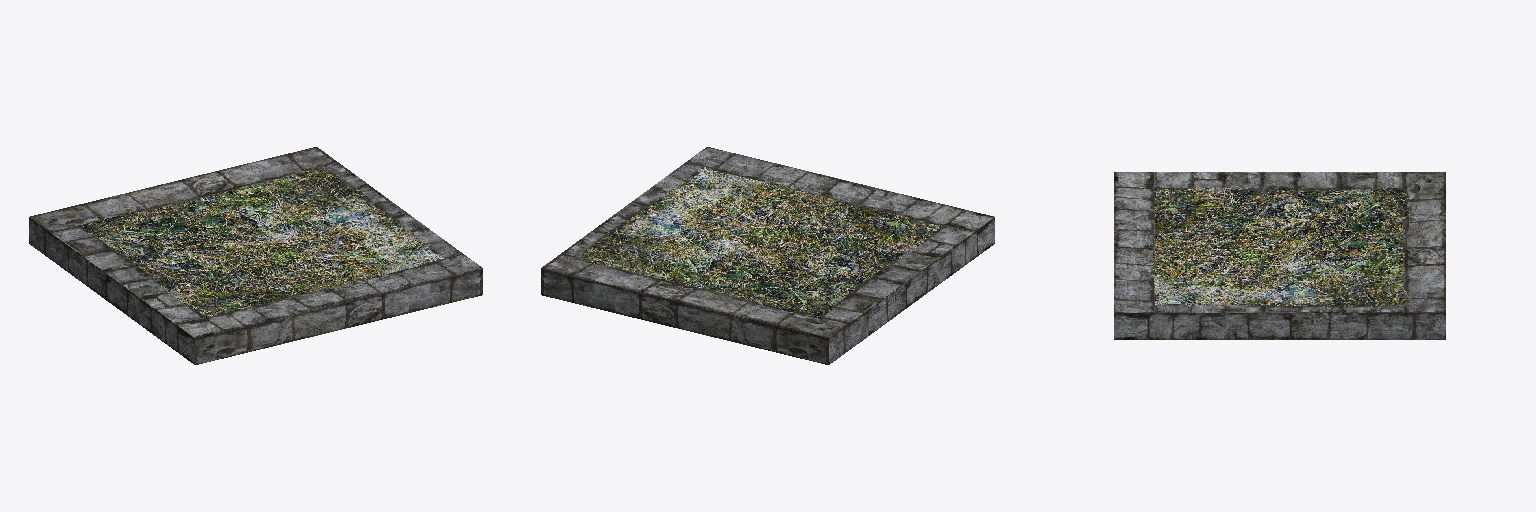
3 views of the same model, side by side, from view 1: azimuth 30°, elevation 25°; view 2: azimuth 150°, elevation 25°; view 3: azimuth 270°, elevation 25° (orthographic).
Parts seen in each view (by area): view 1: treeHole_1_v2; view 2: treeHole_1_v2; view 3: treeHole_1_v2.
Part boxes in pixels (x1,y1,x2,y2): treeHole_1_v2: (29,147,482,364); treeHole_1_v2: (541,147,994,364); treeHole_1_v2: (1114,172,1445,339).
Bounding box in the file's own units: 0.8 × 0.0715 × 0.8.
Materials: 1 (1 with a texture image).